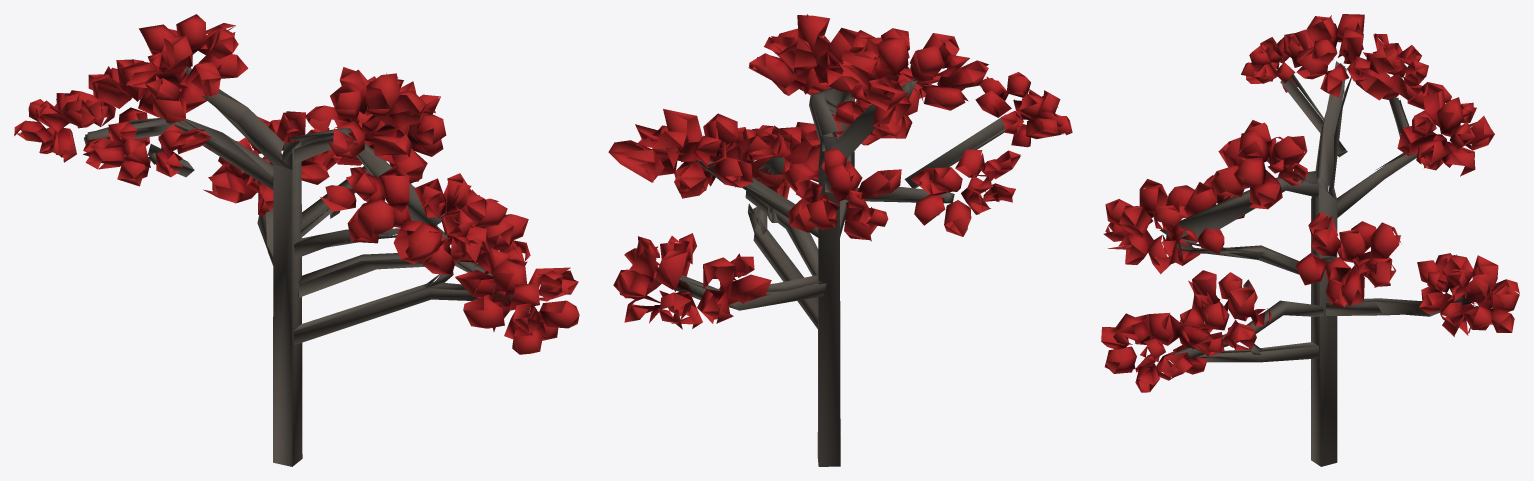
Rendered from loc_qz_nat_zayton.glb.
The picture shows the model from 3 angles, left to right: view 1: azimuth 30°, elevation 25°; view 2: azimuth 150°, elevation 25°; view 3: azimuth 270°, elevation 25°; orthographic projection. The views are drawn at different scales.
Parts seen in each view (by area): view 1: loc_qz_nat_zayton; view 2: loc_qz_nat_zayton; view 3: loc_qz_nat_zayton.
Part boxes in pixels (x1,y1,x2,y2): loc_qz_nat_zayton: [14, 14, 579, 466]; loc_qz_nat_zayton: [608, 14, 1072, 466]; loc_qz_nat_zayton: [1101, 14, 1519, 466].
Size of the model in its own units: 2 by 2.01 by 1.92.
1 material, 1 textured.
